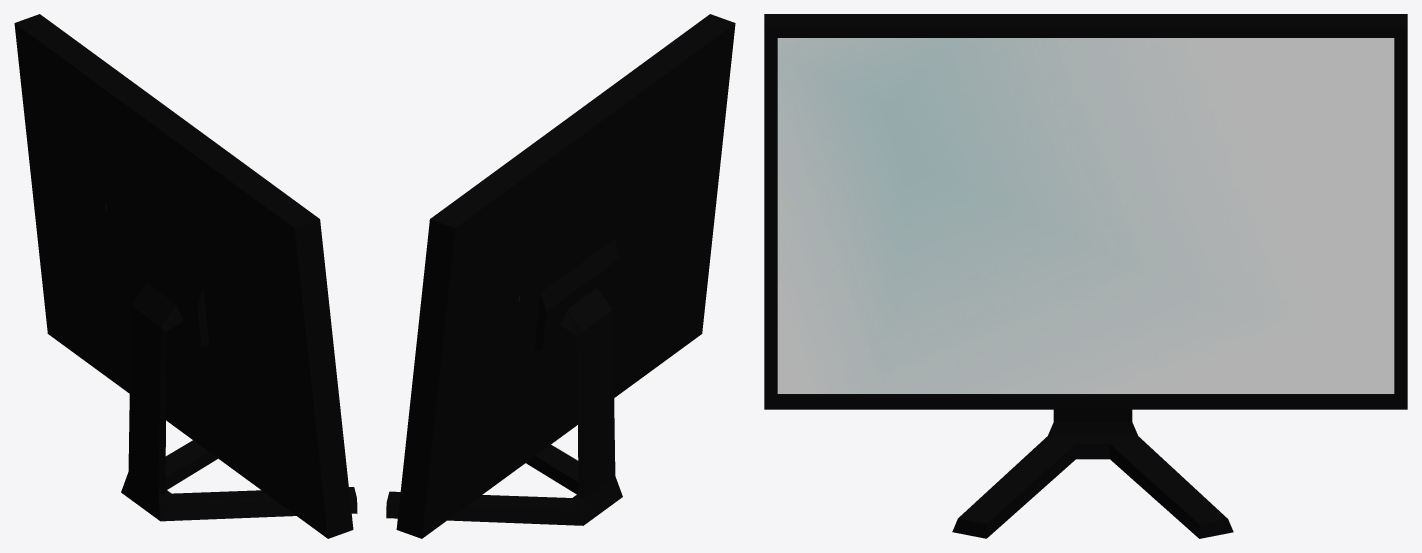
File: Computer.obj
3 renders of one model, left to right at view 1: azimuth 30°, elevation 25°; view 2: azimuth 150°, elevation 25°; view 3: azimuth 270°, elevation 25°, orthographic. The views are drawn at different scales.
Visible parts, largest first — view 1: none; view 2: none; view 3: none.
Boxes of the visible parts, x1=… form: none: x1=14, y1=14, x2=357, y2=538; none: x1=386, y1=14, x2=735, y2=538; none: x1=764, y1=14, x2=1407, y2=538.
Bounding box in the file's own units: 0.1705 × 0.3731 × 0.4938.
